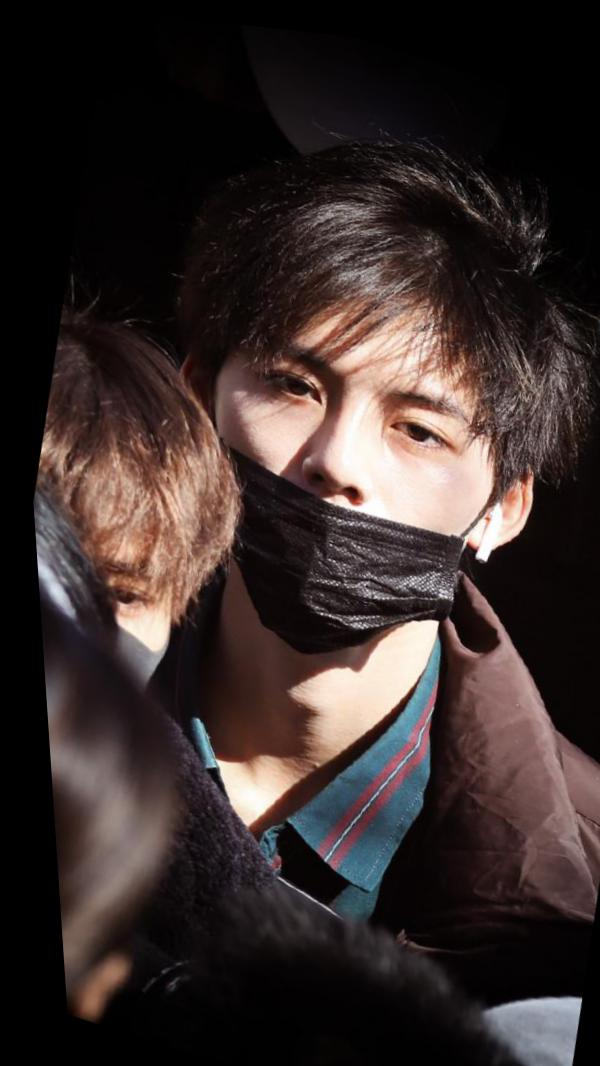WRONG: (160, 262, 524, 693)
